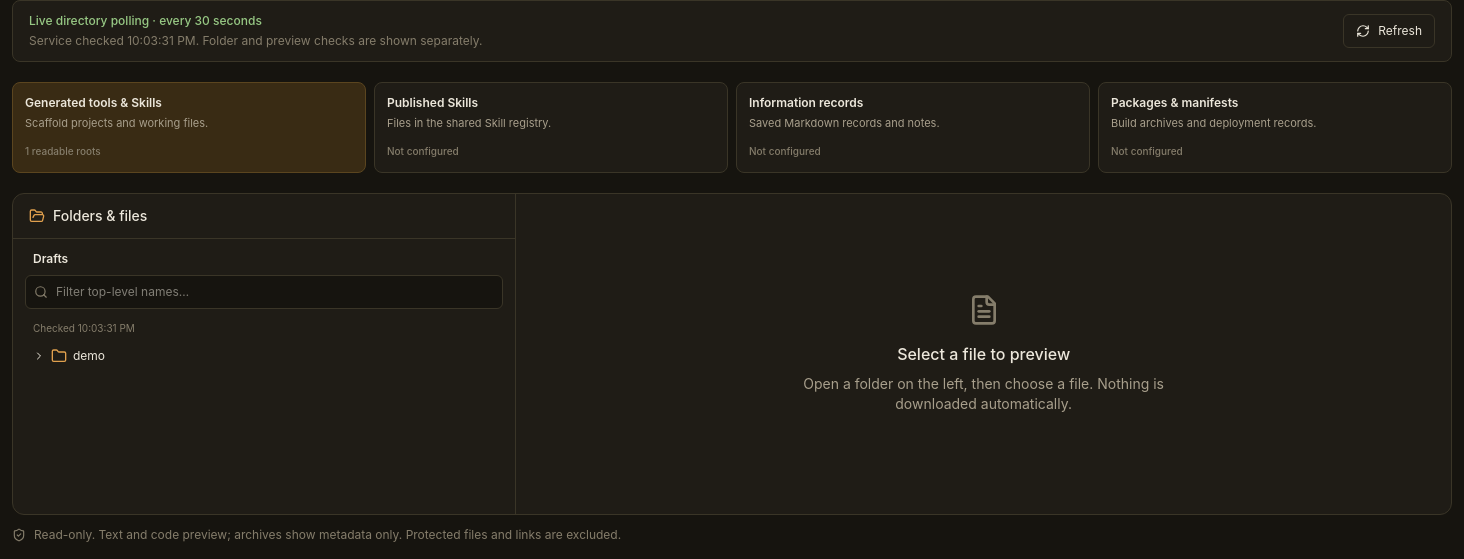
Test: Files live browser › clears a preview when the selected file is deleted
Click the button "demo" at (89, 356), box [25, 340, 503, 372]
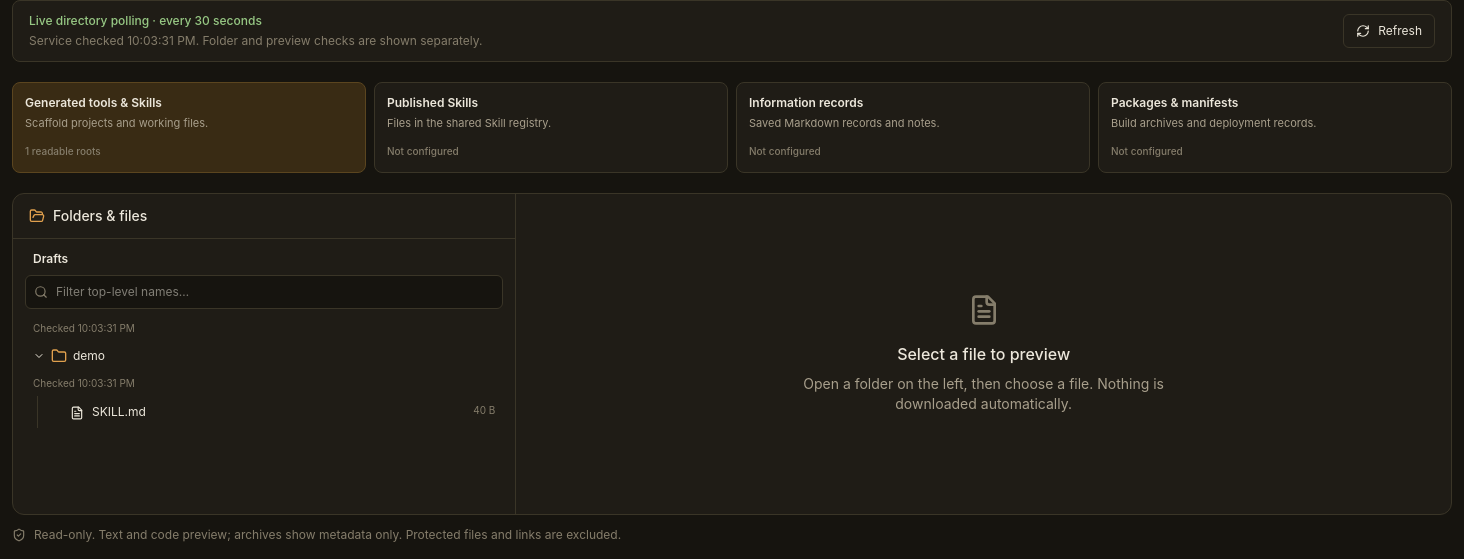
Click the button "SKILL.md 40 B" at (119, 411), box [46, 396, 503, 428]
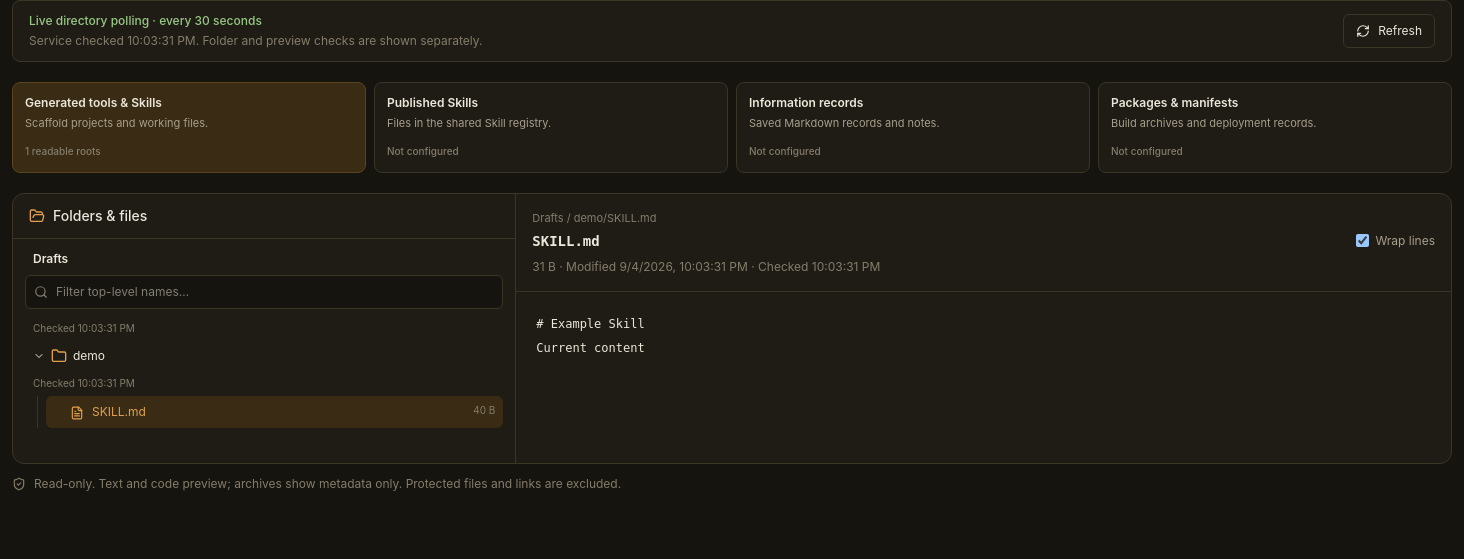
Check: the element named "File content" is shown, box [536, 317, 645, 355]
Click the button "Refresh" at (1389, 31), box [1343, 14, 1435, 48]
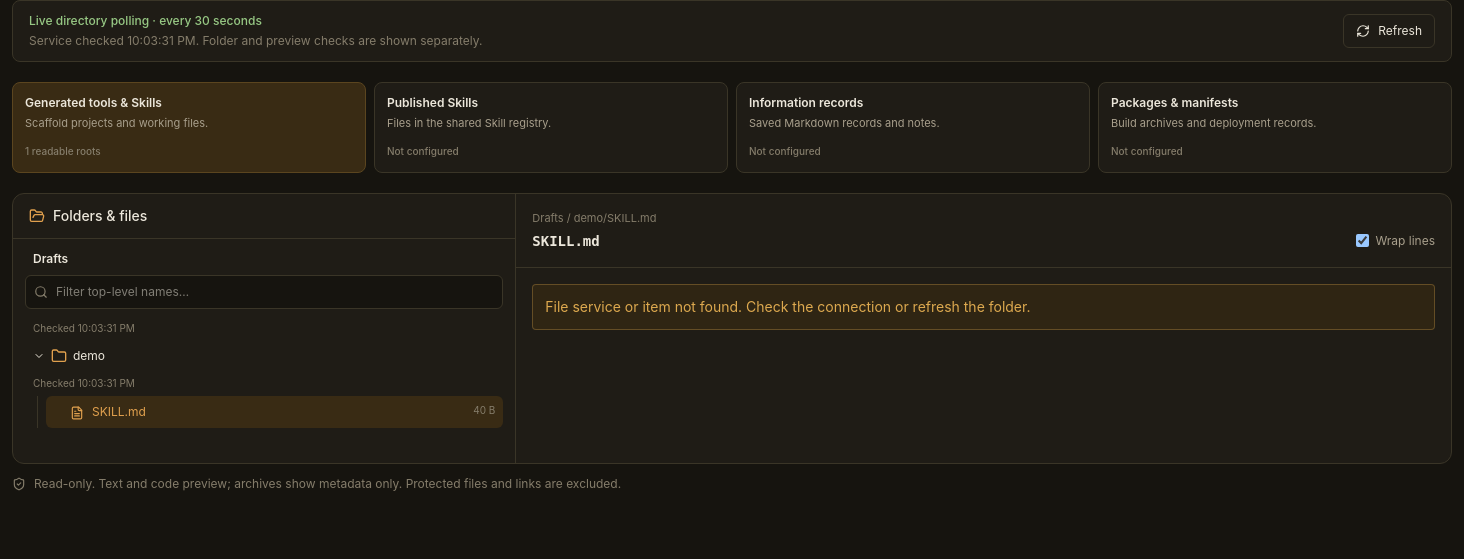
Check: the text "File service or item not found. Check the connection or refresh the folder." is shown, box [532, 284, 1435, 330]
